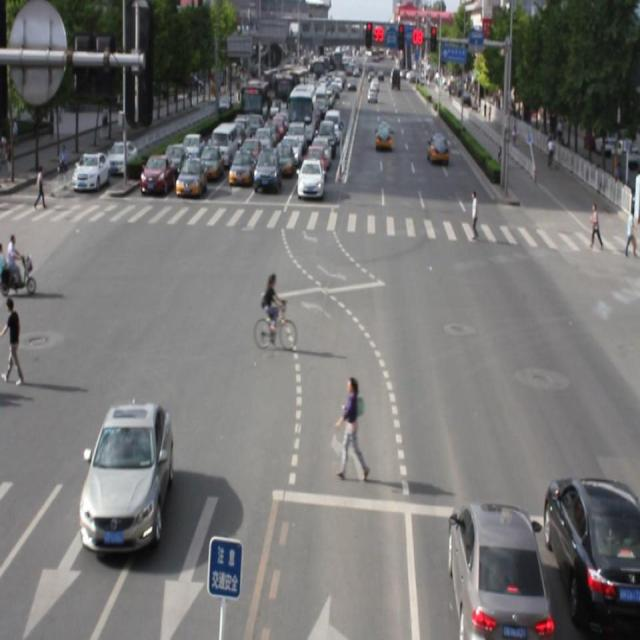car: (541, 481, 640, 631), (80, 399, 171, 554), (448, 503, 548, 640)
